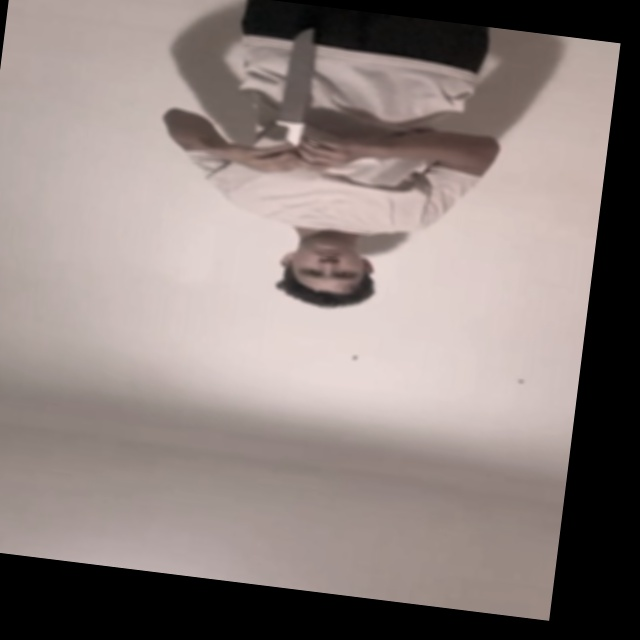Sharp-Object: (272, 26, 316, 122)
